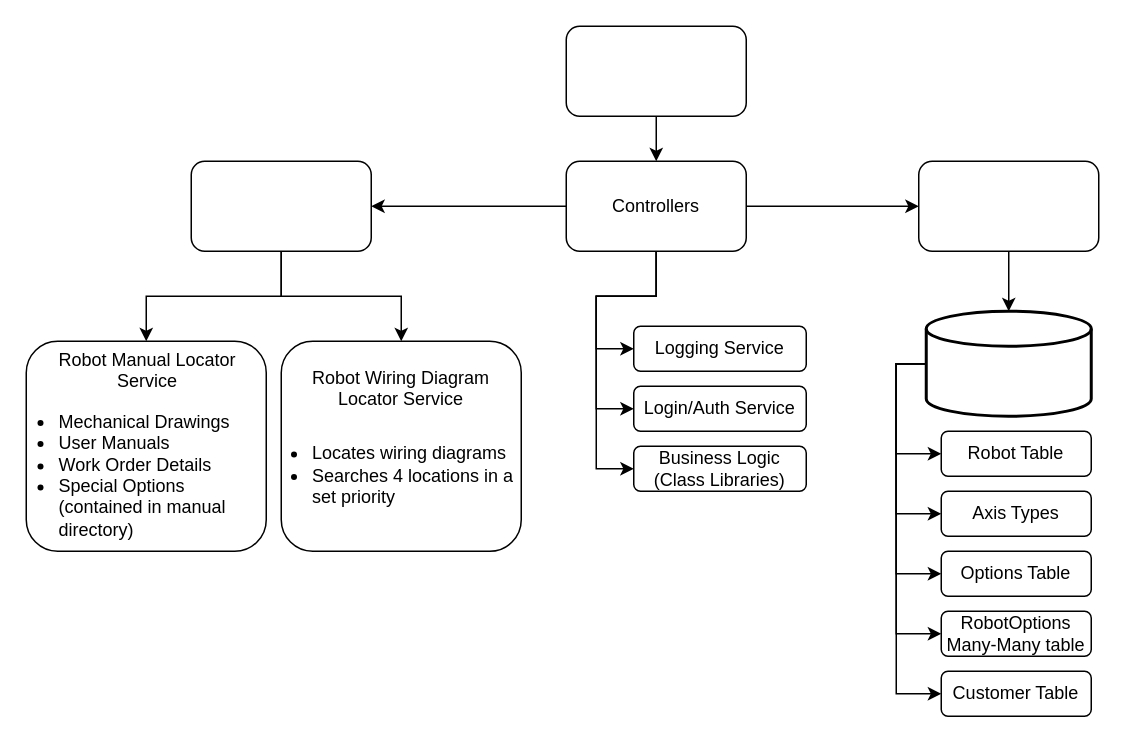
Image size: 1125x743. Some labels were removed from this diagram. Each missing label, with the centre of its shape:
"Database" belongs at point (1008, 363).
"Database WebAPI/Service" belongs at point (1008, 205).
"Network Storage Service" belongs at point (280, 205).
"Web UI" belongs at point (655, 70).
